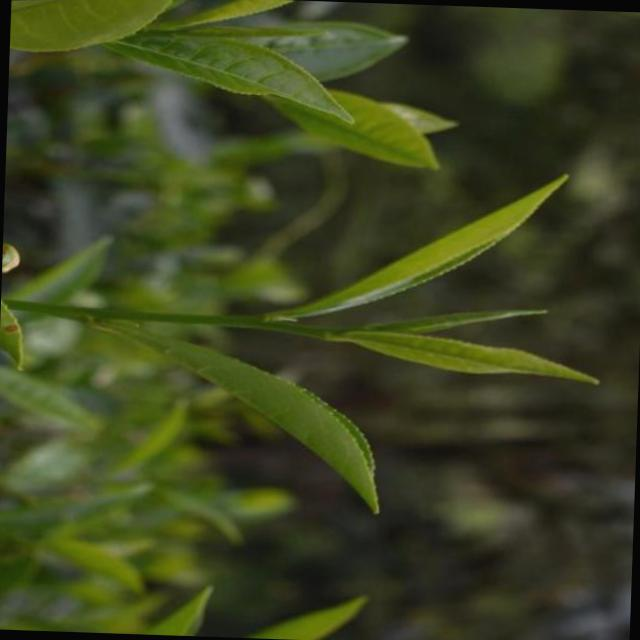Stem: (211, 314, 265, 326)
